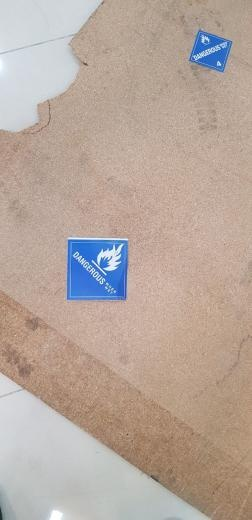Dangerous when wet: (67, 237, 129, 301), (189, 31, 232, 72)
